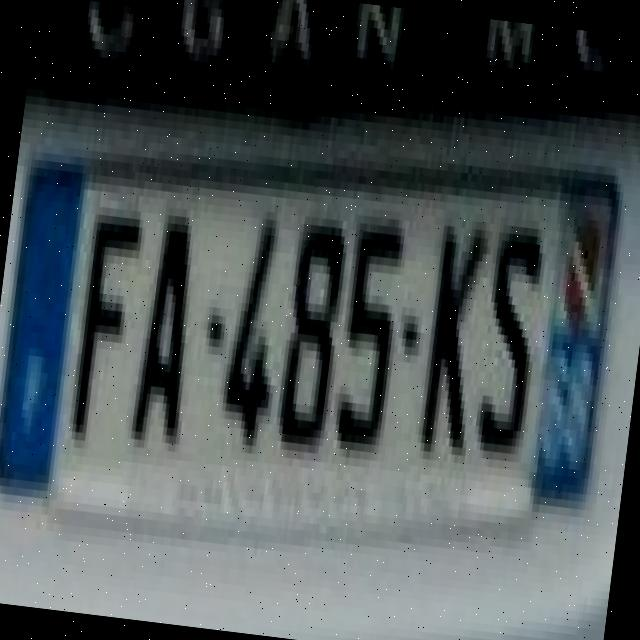Autre: (0, 170, 624, 493)
